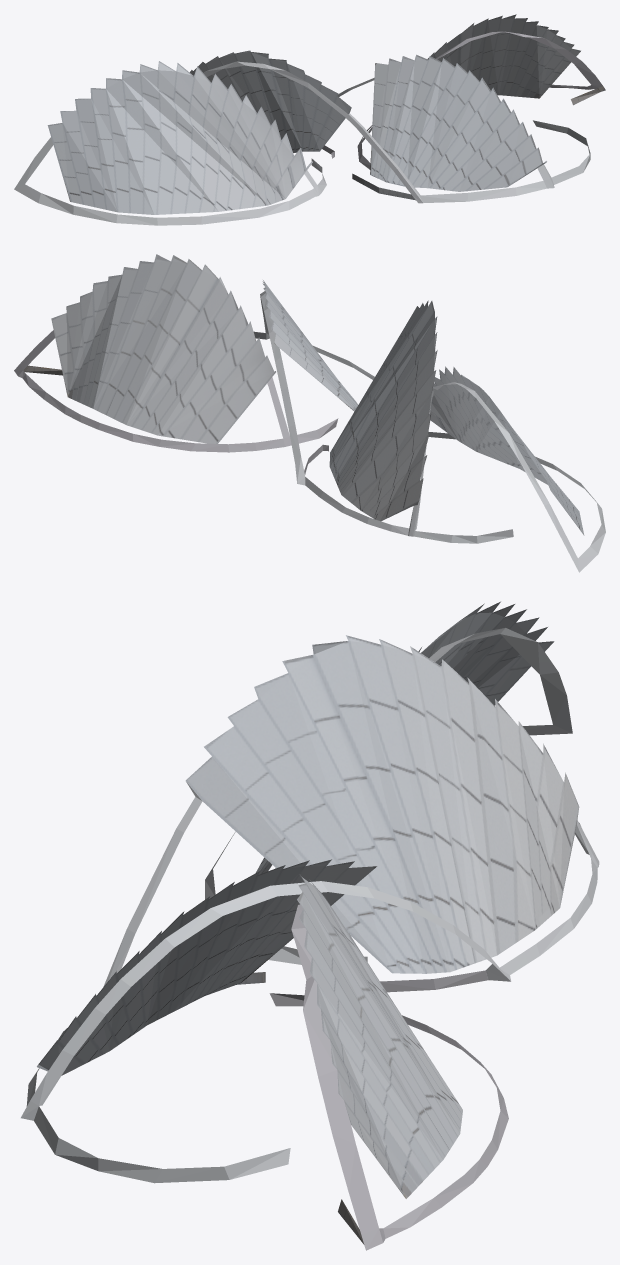
The model's file is placed_119.glb.
3 renders of one model, top to bottom at view 1: azimuth 30°, elevation 25°; view 2: azimuth 150°, elevation 25°; view 3: azimuth 270°, elevation 25°, orthographic. The views are drawn at different scales.
Visible parts, largest first — view 1: Plane.001; view 2: Plane.001; view 3: Plane.001.
Part boxes in pixels (<box>): Plane.001: <box>14,14,605,225</box>; Plane.001: <box>14,254,605,572</box>; Plane.001: <box>21,601,599,1250</box>.
Bounding box in the file's own units: 103 × 25.13 × 47.6.
Materials: 1 (1 with a texture image).
